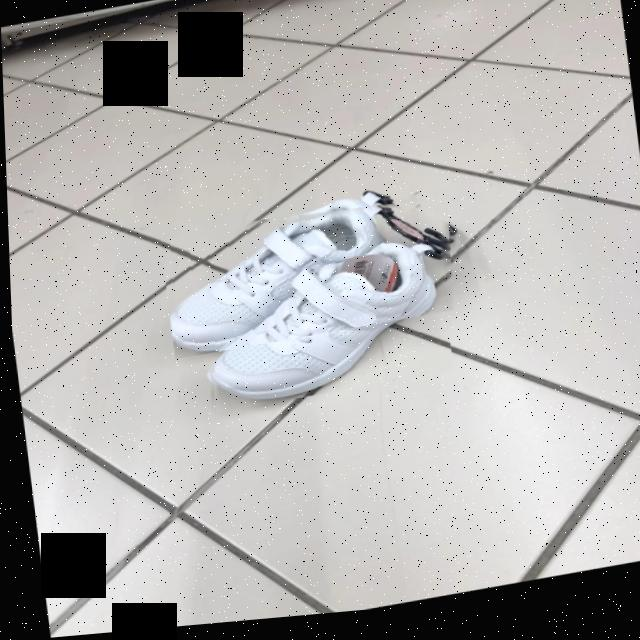shoe: (167, 210, 448, 357), (206, 242, 440, 408)
